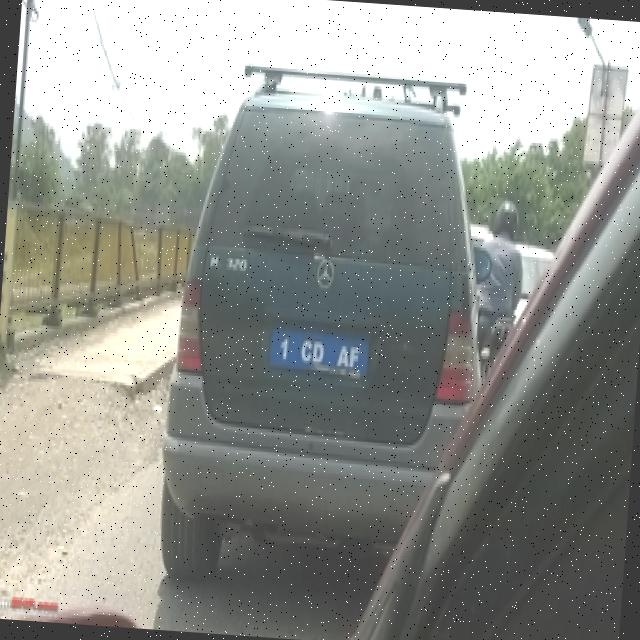Autre: (271, 328, 371, 377)
